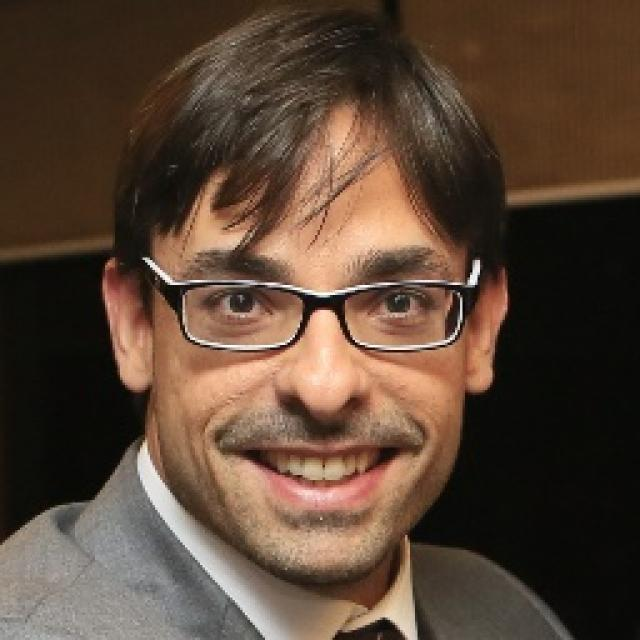earlobe: (462, 240, 512, 394), (100, 256, 152, 391)
